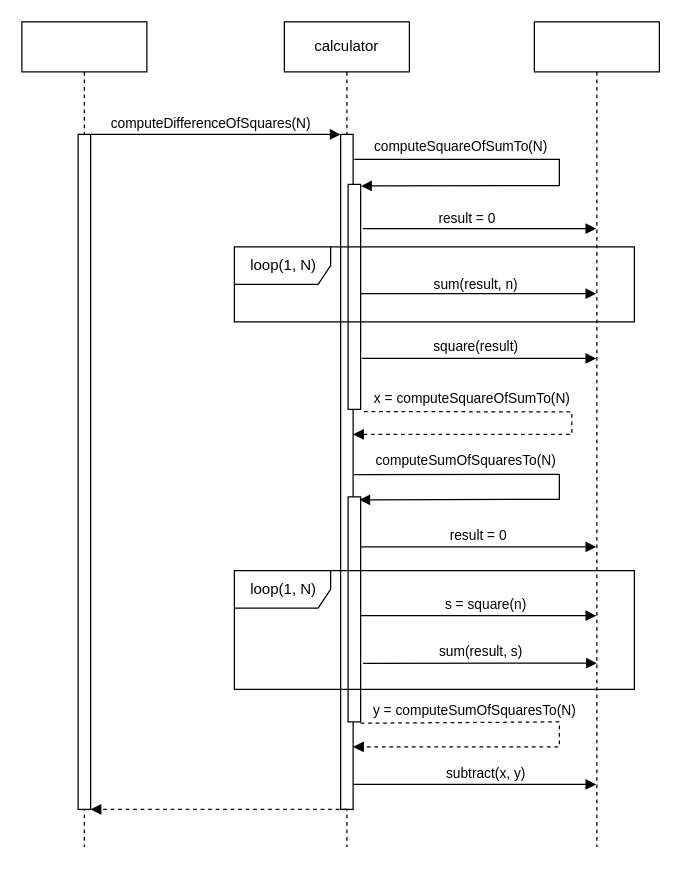
Some shapes in this 681 by 869 pixel diagram are drawn without their labels. The shapes that lost their labels are listed below. From the top down, each one's box as (x1, y1, x2, y2) in pixels, then its label:
(21, 21, 147, 847): :User
(533, 21, 659, 847): operations
